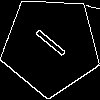I: (26, 20, 69, 59)
